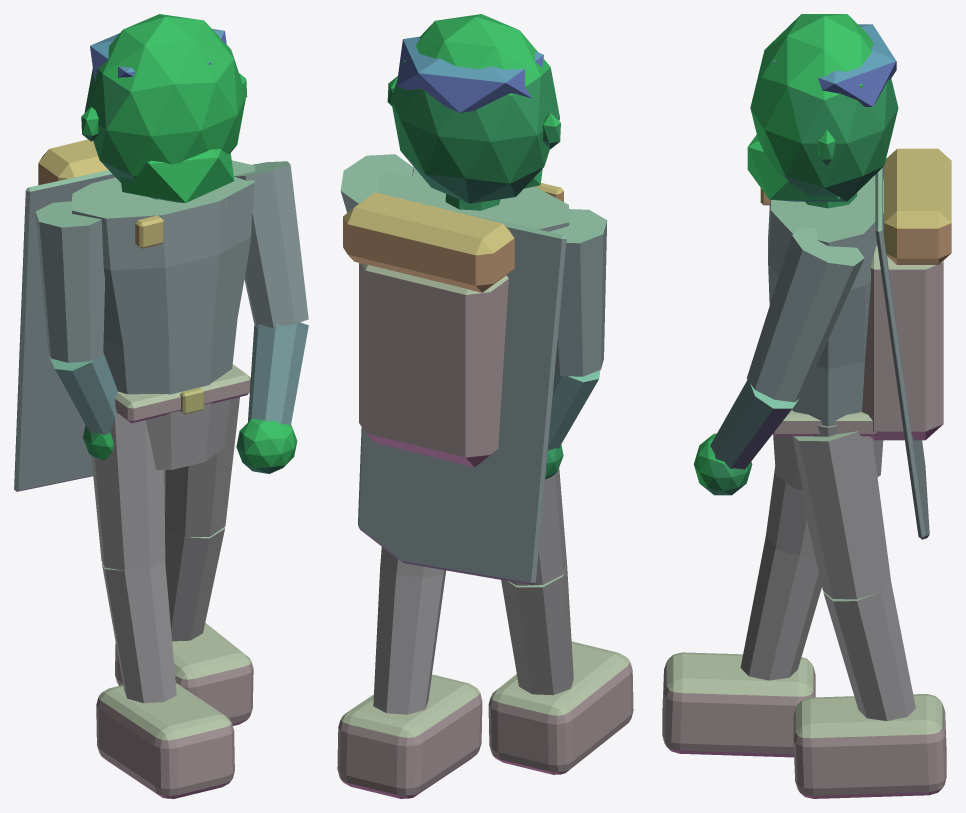
File: npc_refugee_contact_l_v01.glb
The picture shows the model from 3 angles, left to right: view 1: azimuth 30°, elevation 25°; view 2: azimuth 150°, elevation 25°; view 3: azimuth 270°, elevation 25°; orthographic projection. The views are drawn at different scales.
Visible parts, largest first — view 1: GEO_npc_refugee_contact_l_v01; view 2: GEO_npc_refugee_contact_l_v01; view 3: GEO_npc_refugee_contact_l_v01.
Part boxes in pixels (x1,y1,x2,y2): GEO_npc_refugee_contact_l_v01: (14, 14, 308, 798); GEO_npc_refugee_contact_l_v01: (337, 14, 633, 798); GEO_npc_refugee_contact_l_v01: (662, 14, 951, 798).
Bounding box in the file's own units: 0.7519 × 2.08 × 0.7277.
